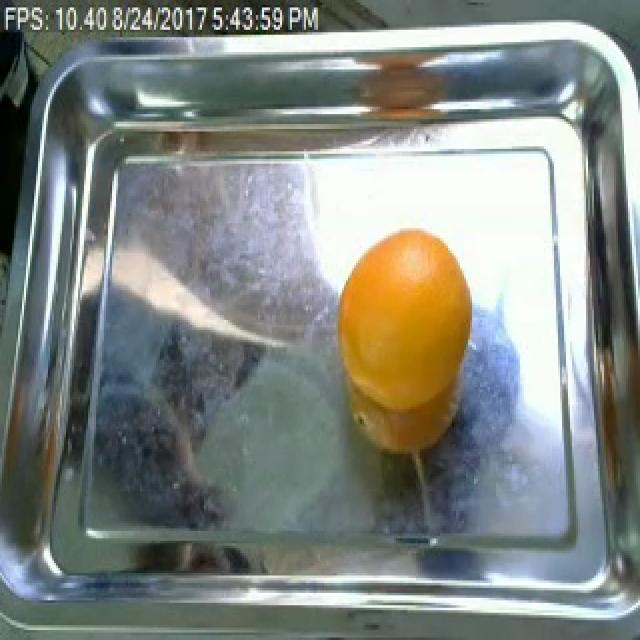Fruit: (328, 218, 480, 456)
